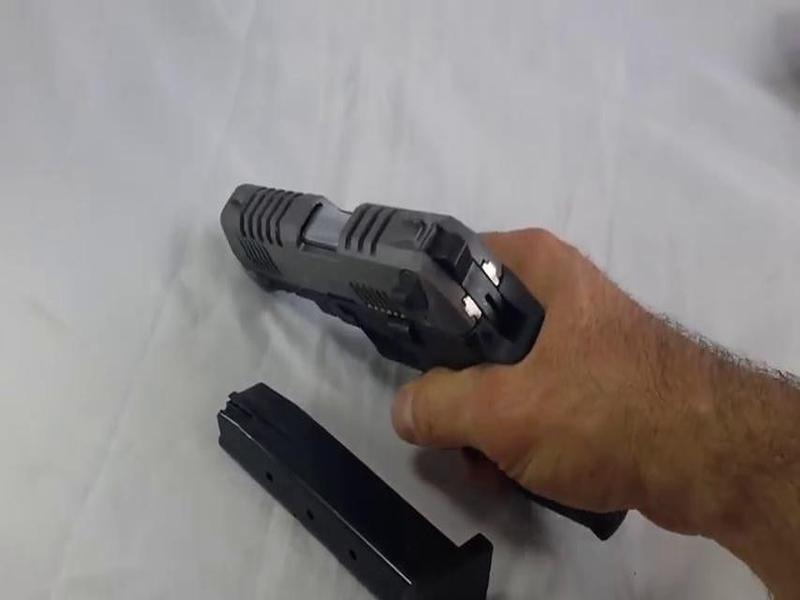Pistola: (181, 167, 594, 443)
